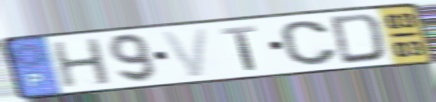9: (105, 32, 161, 84)
C: (278, 19, 341, 67)
D: (328, 12, 389, 66)
H: (49, 36, 114, 90)
T: (219, 24, 259, 72)
V: (158, 26, 211, 79)
